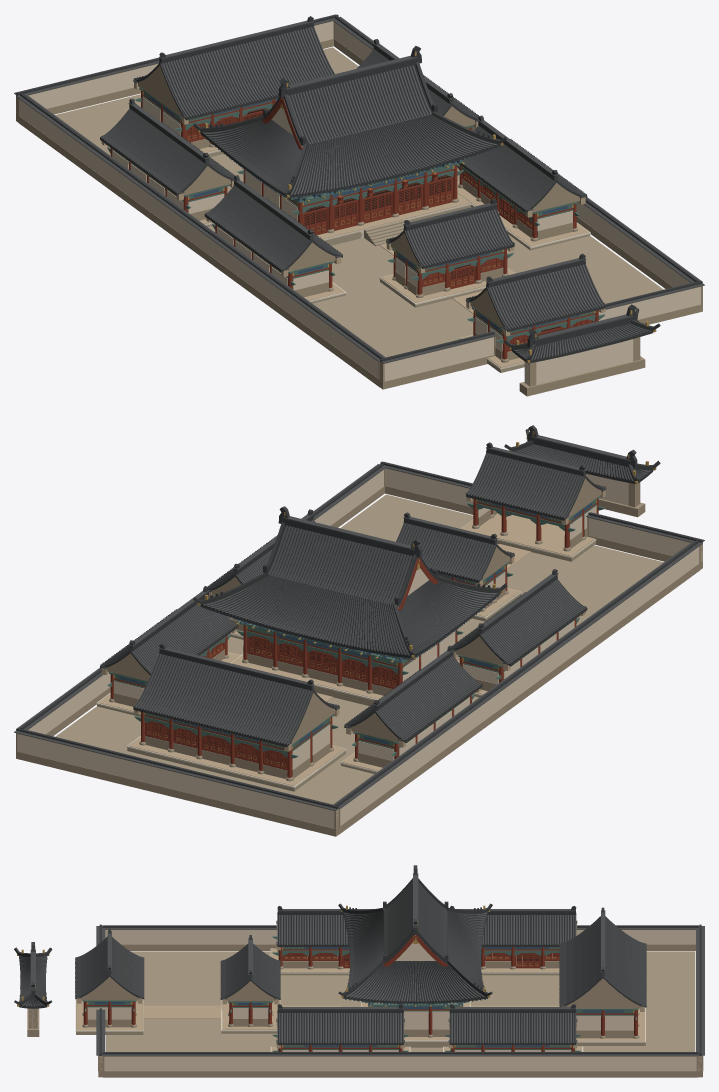
The picture shows the model from 3 angles, top to bottom: view 1: azimuth 30°, elevation 25°; view 2: azimuth 150°, elevation 25°; view 3: azimuth 270°, elevation 25°; orthographic projection. The views are drawn at different scales.
Parts seen in each view (by area): view 1: K08; view 2: K08; view 3: K08.
Boxes of the visible parts, <box> form: K08: <box>14,14,704,396</box>; K08: <box>14,425,704,836</box>; K08: <box>14,865,704,1077</box>.
Size of the model in its own units: 41.2 by 17.81 by 92.17.
